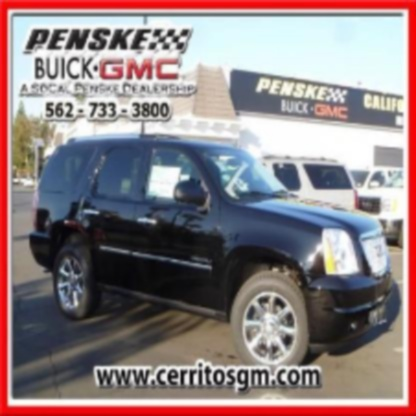Vehicle: (29, 135, 395, 376)
